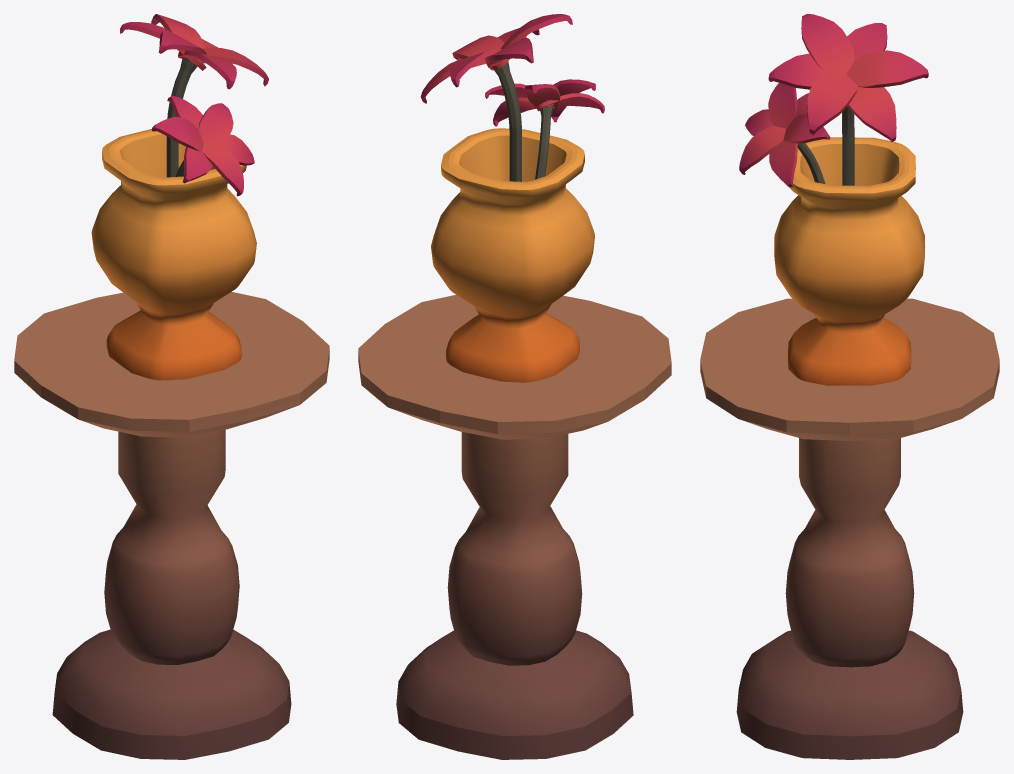
The model's file is FlowerAndPedestal.fbx.
3 renders of one model, left to right at view 1: azimuth 30°, elevation 25°; view 2: azimuth 150°, elevation 25°; view 3: azimuth 270°, elevation 25°, orthographic.
Visible parts, largest first — view 1: pedestal1:pedestal1; view 2: pedestal1:pedestal1; view 3: pedestal1:pedestal1.
Part boxes in pixels (bbox=[...]): pedestal1:pedestal1: bbox=[14, 14, 329, 759]; pedestal1:pedestal1: bbox=[358, 14, 671, 759]; pedestal1:pedestal1: bbox=[700, 14, 999, 759].
Size of the model in its own units: 0.7835 by 1.98 by 0.7835.
